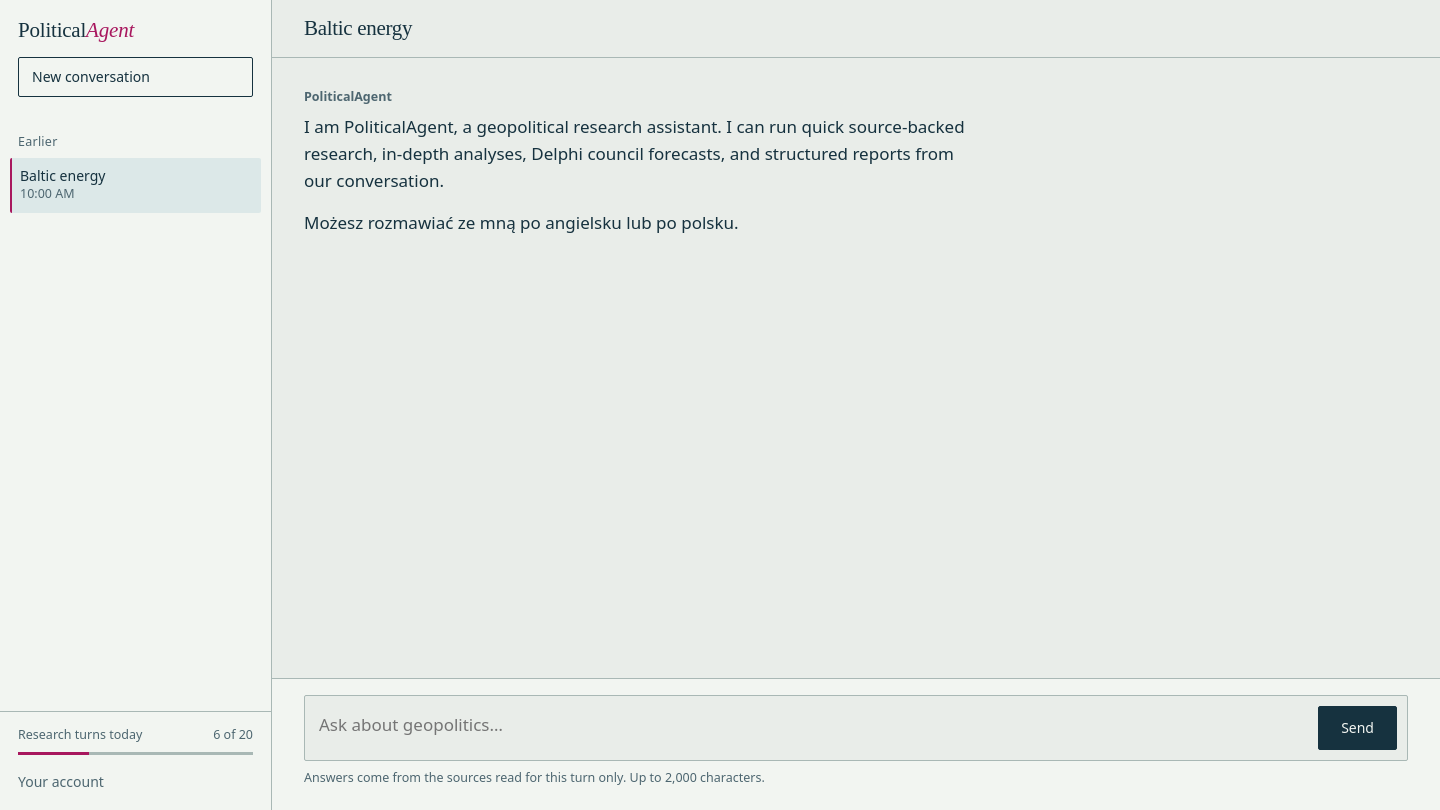
the app shell › a turn starting while the reload restore is pending discards the restore
Expected: the button "Send" is shown, [1318, 706, 1397, 750]
In the text box named "Ask a question": coordinates (813, 728) [319, 706, 1306, 750], type "hello"
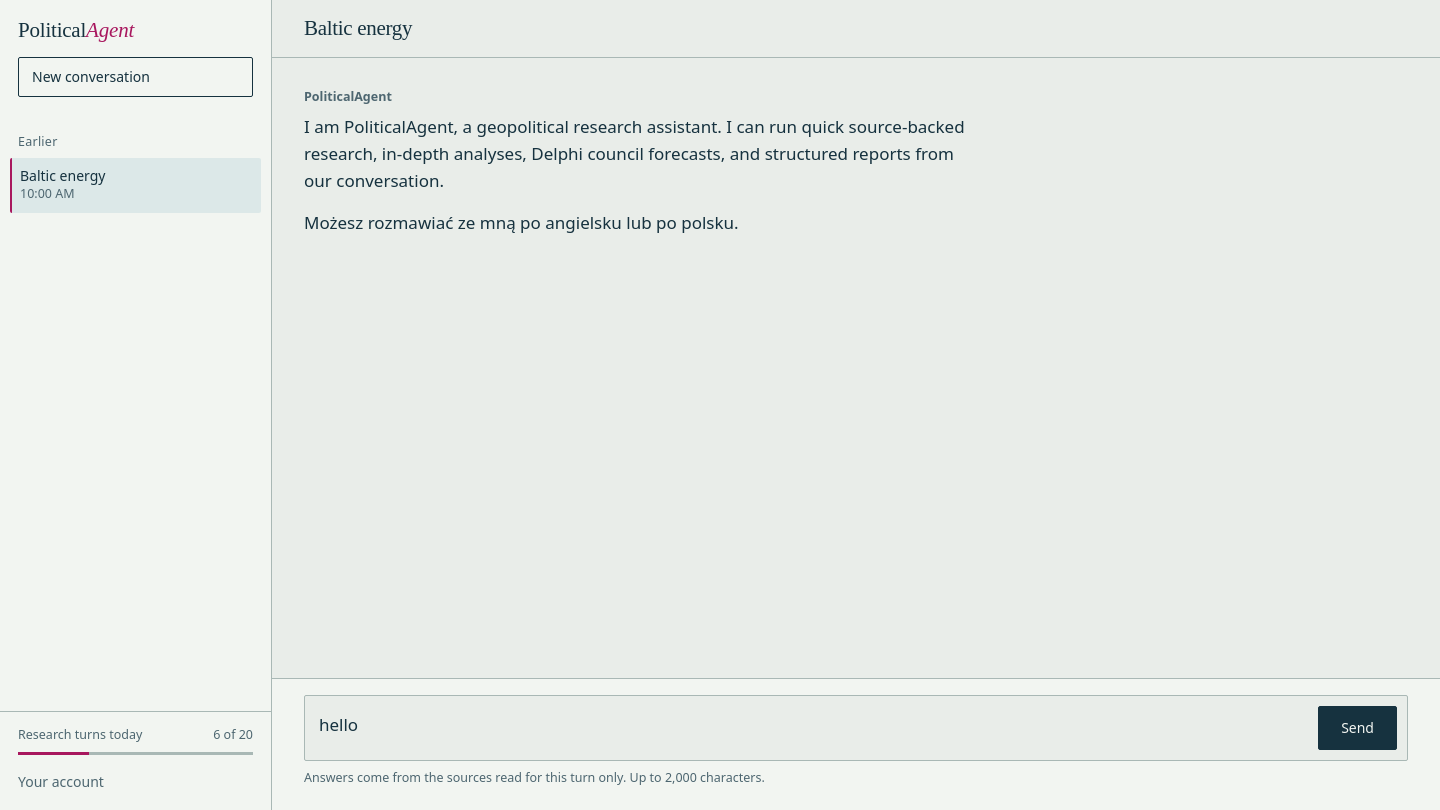
Submit the form named "Ask a question", box [272, 678, 1439, 809]
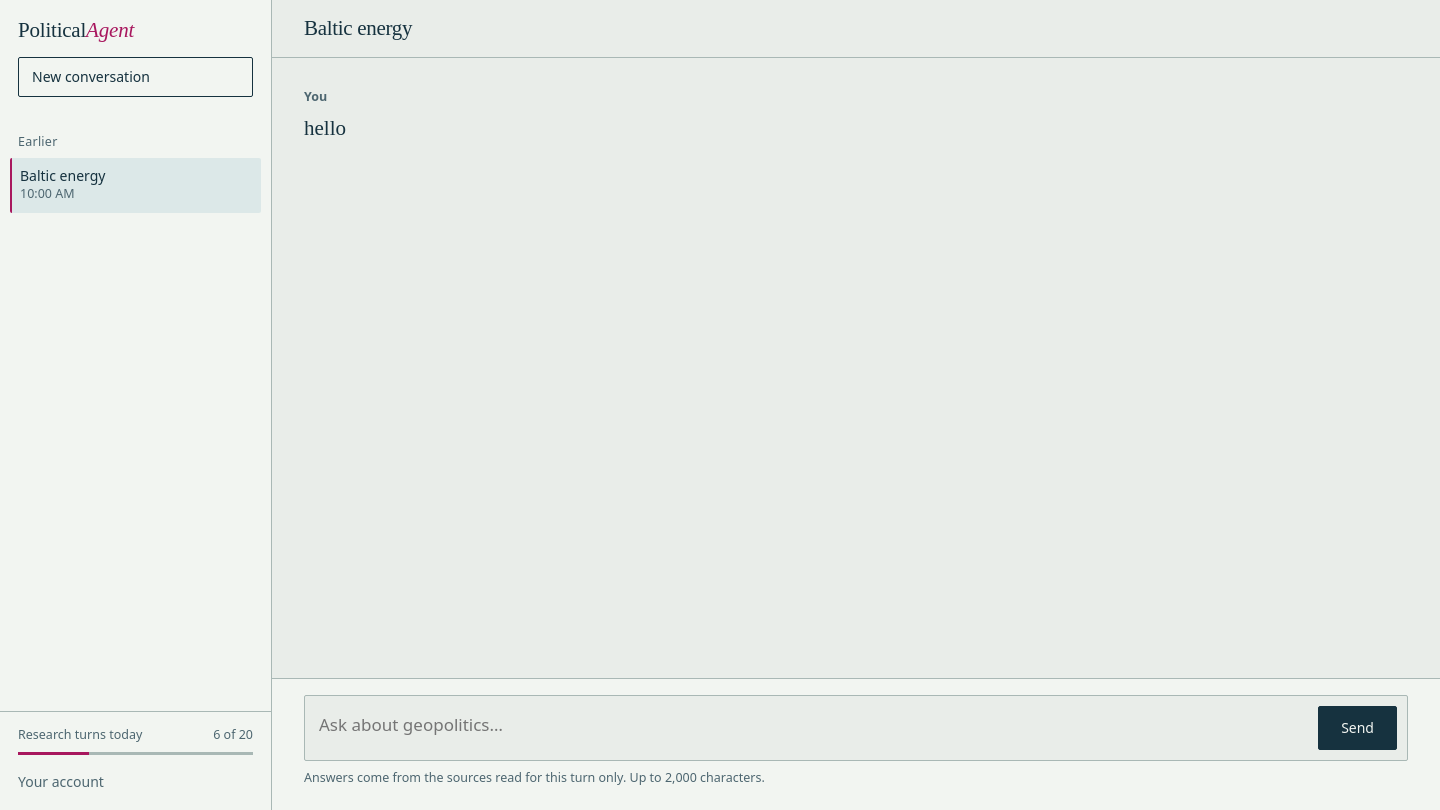
Expected: the text "hello" is shown, [304, 116, 346, 140]
